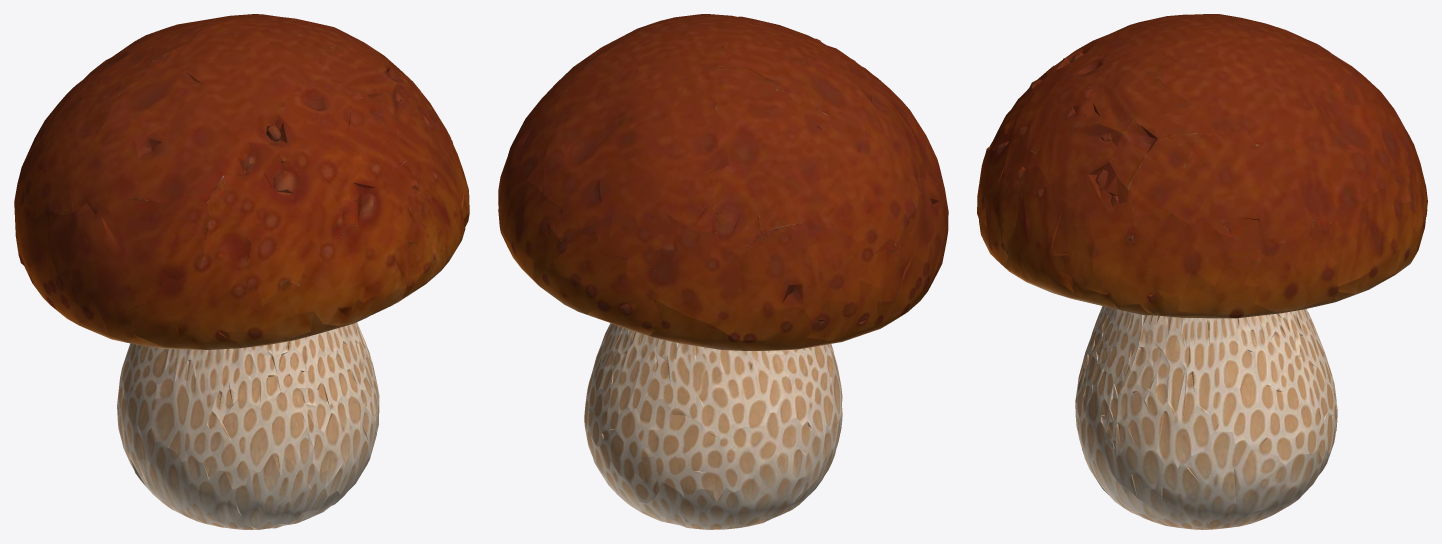
The model's file is ayi.glb.
3 renders of one model, left to right at view 1: azimuth 30°, elevation 25°; view 2: azimuth 150°, elevation 25°; view 3: azimuth 270°, elevation 25°, orthographic.
Visible parts, largest first — view 1: output_unwrapped; view 2: output_unwrapped; view 3: output_unwrapped.
Boxes of the visible parts, x1,y1,x2,y2 form: output_unwrapped: (14, 14, 469, 529); output_unwrapped: (498, 14, 948, 529); output_unwrapped: (977, 14, 1427, 529).
Bounding box in the file's own units: 1.63 × 1.9 × 1.64.
Materials: 1 (1 with a texture image).
